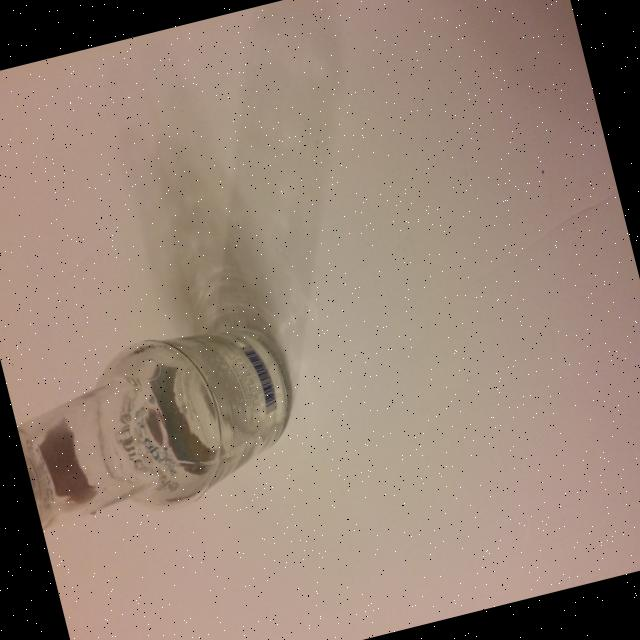glass: (0, 0, 437, 540), (3, 305, 314, 539)
